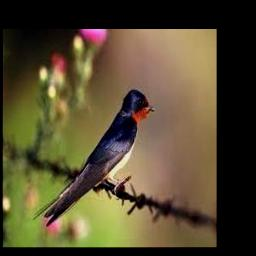Swallow: (33, 90, 155, 227)
